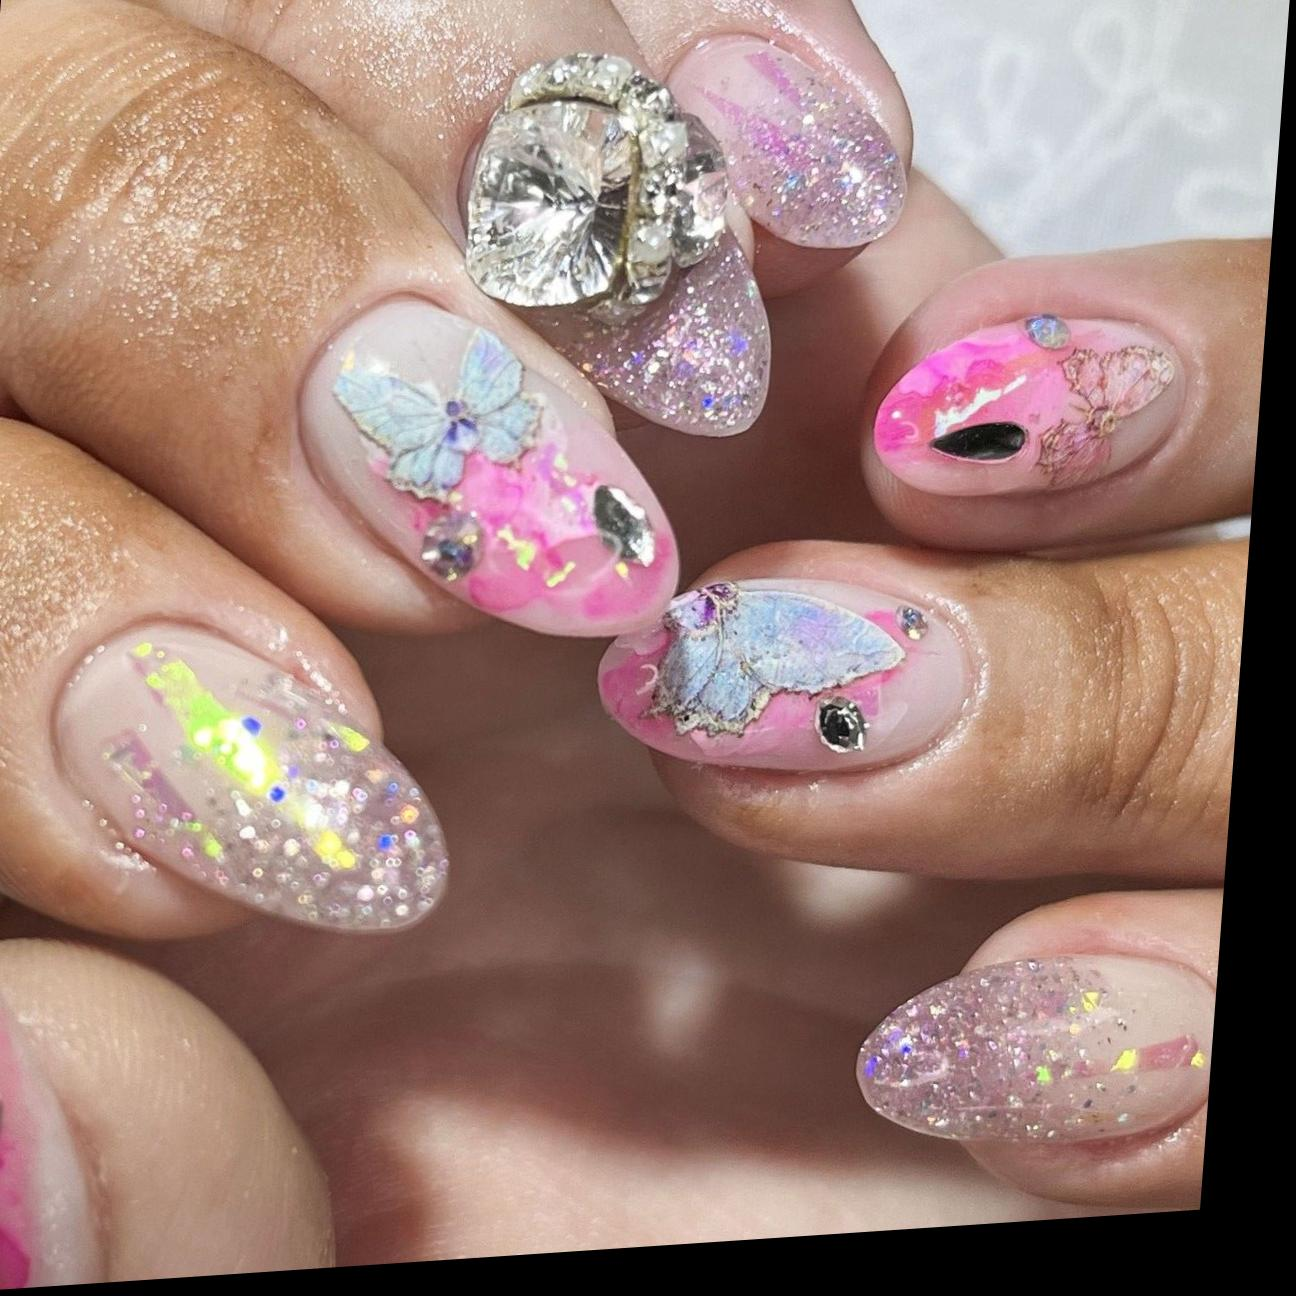nail: (278, 273, 704, 660), (34, 599, 472, 959), (462, 56, 770, 437), (847, 940, 1220, 1167), (597, 578, 976, 773), (650, 19, 922, 265), (866, 304, 1190, 508), (0, 1003, 103, 1290)
